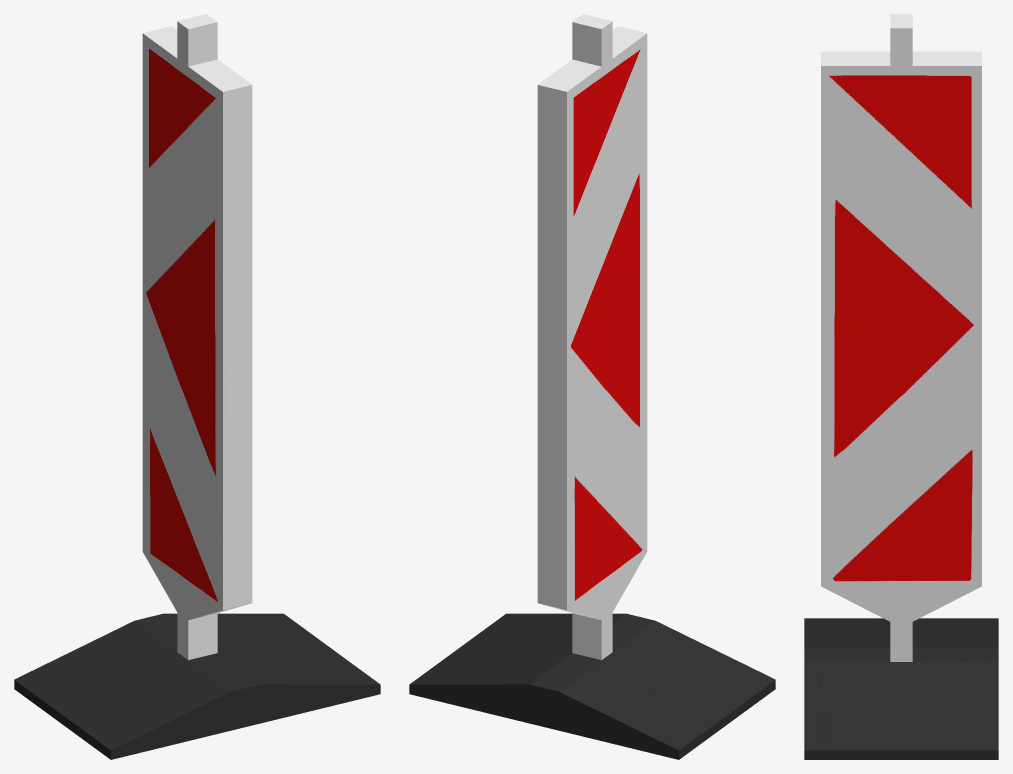
The model's file is directional_board_lr.fbx.
The picture shows the model from 3 angles, left to right: view 1: azimuth 30°, elevation 25°; view 2: azimuth 150°, elevation 25°; view 3: azimuth 270°, elevation 25°; orthographic projection.
Visible parts, largest first — view 1: directional_board_rl; view 2: directional_board_rl; view 3: directional_board_rl.
Part boxes in pixels (left/top/right/bottom): directional_board_rl: left=14, top=14, right=380, bottom=759; directional_board_rl: left=409, top=14, right=775, bottom=759; directional_board_rl: left=804, top=14, right=998, bottom=759.
Size of the model in its own units: 33.76 by 54.32 by 129.
